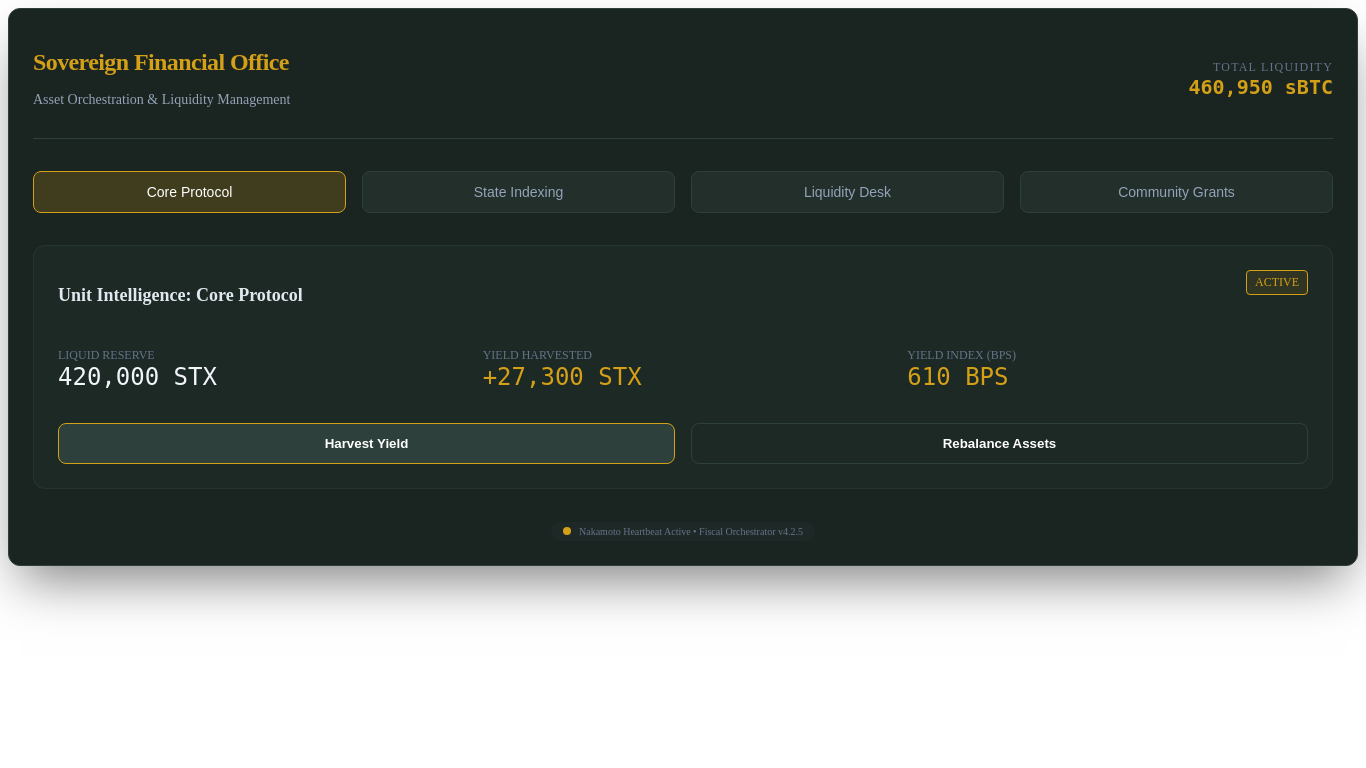
it: SovereignFinancialOffice Component › updates Selected Unit when another operational unit button is clicked
# Click on 'Liquidity Desk' unit
What coordinates should you click on to do the following:
click the button "Liquidity Desk"
I would click on:
 (848, 192)
Its box is [691, 171, 1004, 213].
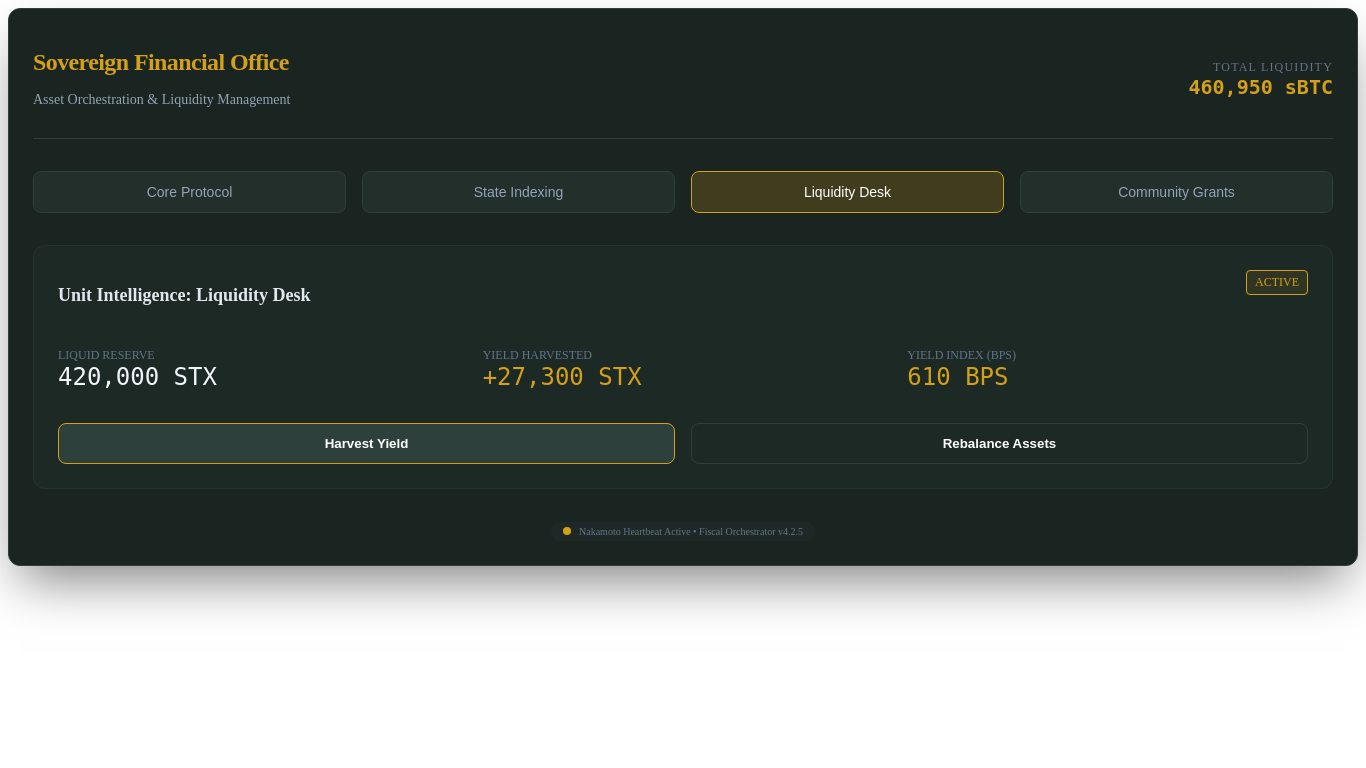
Check: the heading "Unit Intelligence: Liquidity Desk" is shown, box [58, 285, 310, 306]
